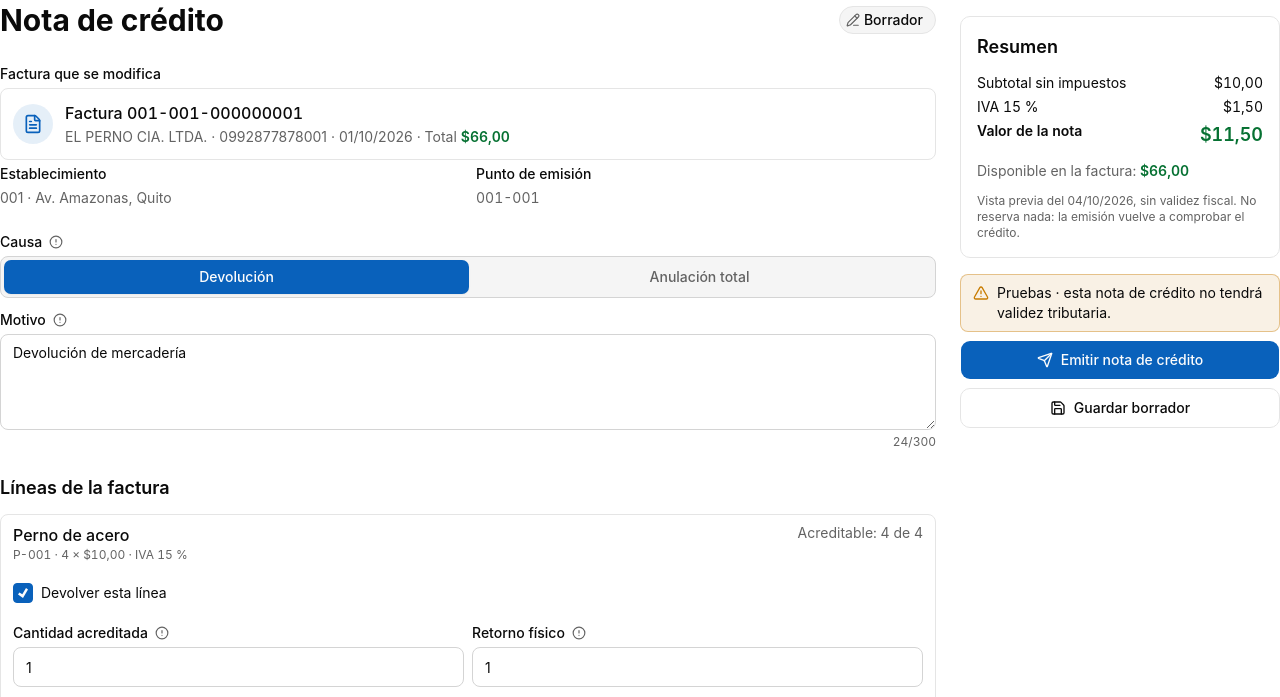
Scenario: borrador de nota de crédito › un borrador cambiado por otra persona se explica y se recarga
What coordinates should you click on to do the following:
click the button "Emitir nota de crédito"
I would click on:
 (1120, 360)
Its box is [960,340,1279,380].
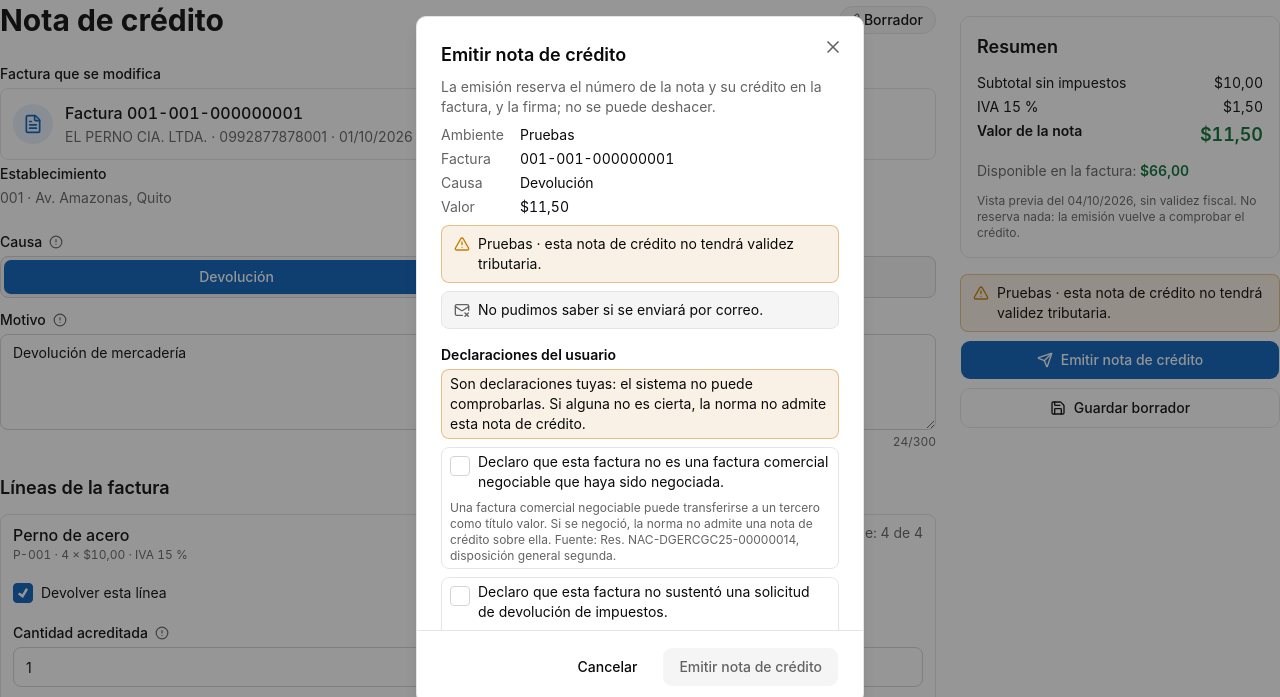
What coordinates should you click on to do the following:
click the checkbox named "Declaro que esta factura no es una factura comercial negociable que haya sido negociada."
I would click on:
 (460, 466)
Its box is [450,456,470,476].
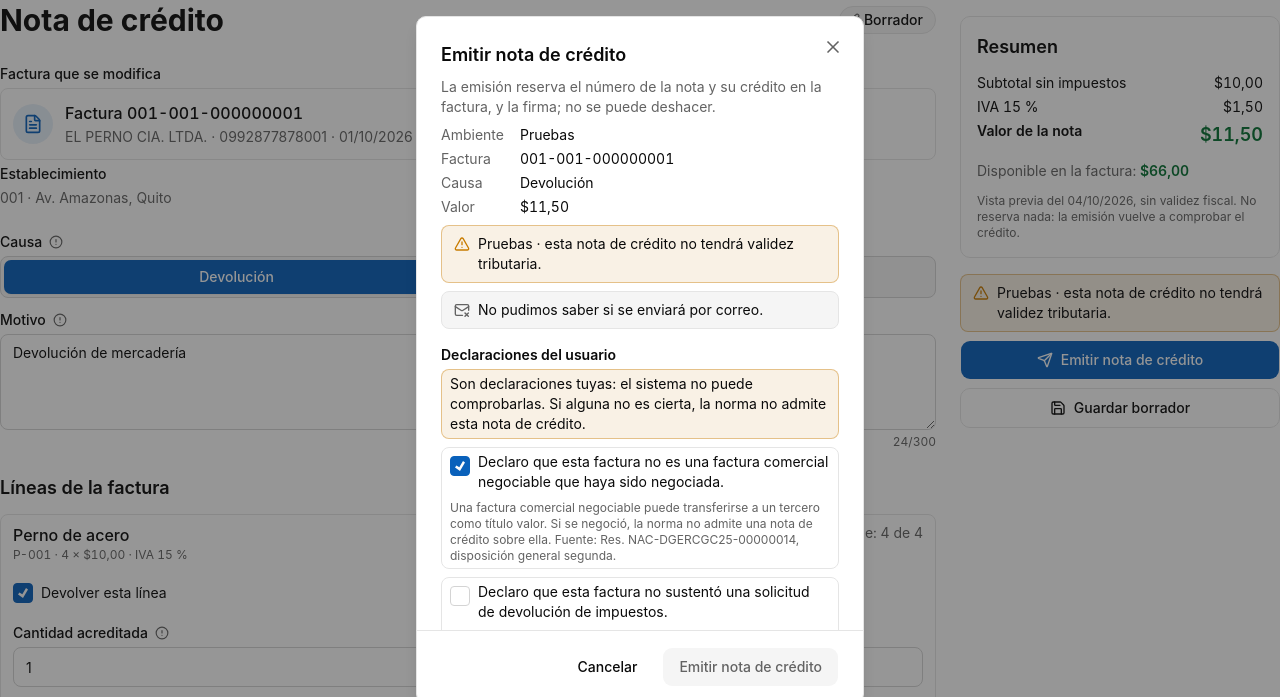
What coordinates should you click on to do the following:
click the checkbox labelled "Declaro que esta factura no sustentó una solicitud de devolución de impuestos."
I would click on:
 (460, 596)
Its box is [450,586,470,606].
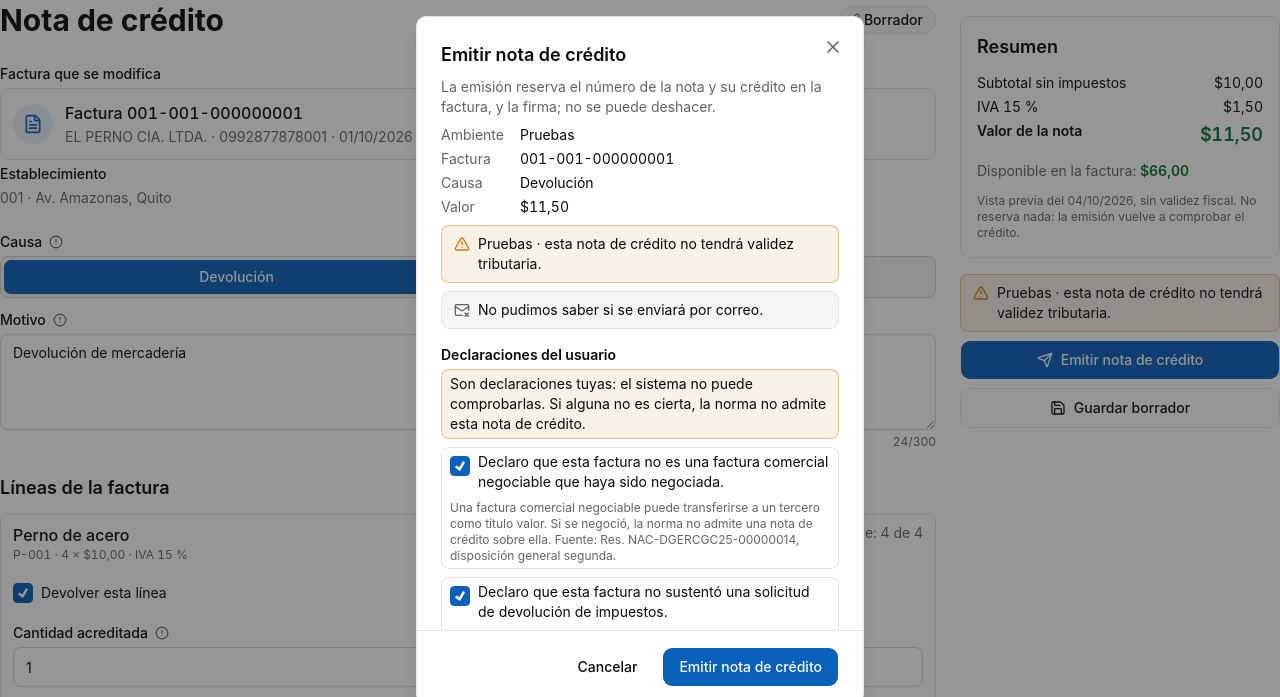
What coordinates should you click on to do the following:
click the button "Emitir nota de crédito"
I would click on:
 (751, 667)
Its box is [662,647,839,687].
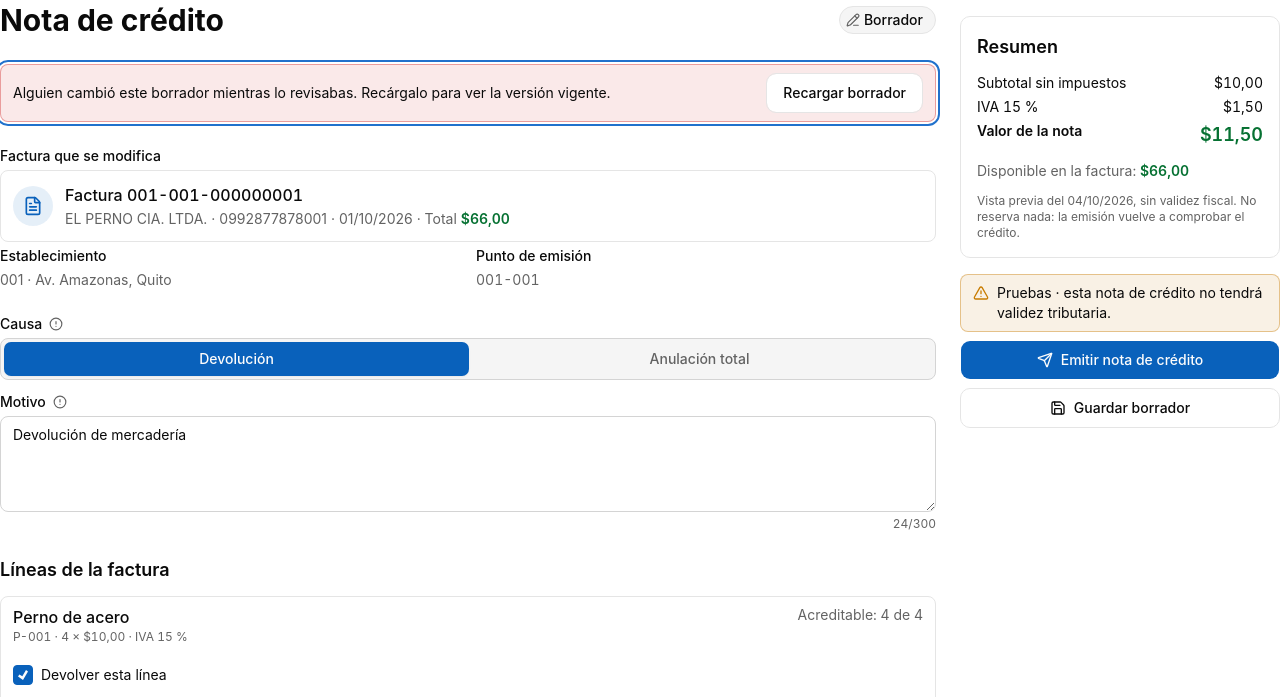
Check: the text "Alguien cambió este borrador mientras lo revisabas. Recárgalo para ver la versión vigente." is shown, box [13,84,611,101]
What coordinates should you click on to do the following:
click the button "Recargar borrador"
I would click on:
 (845, 93)
Its box is [766,73,923,113].
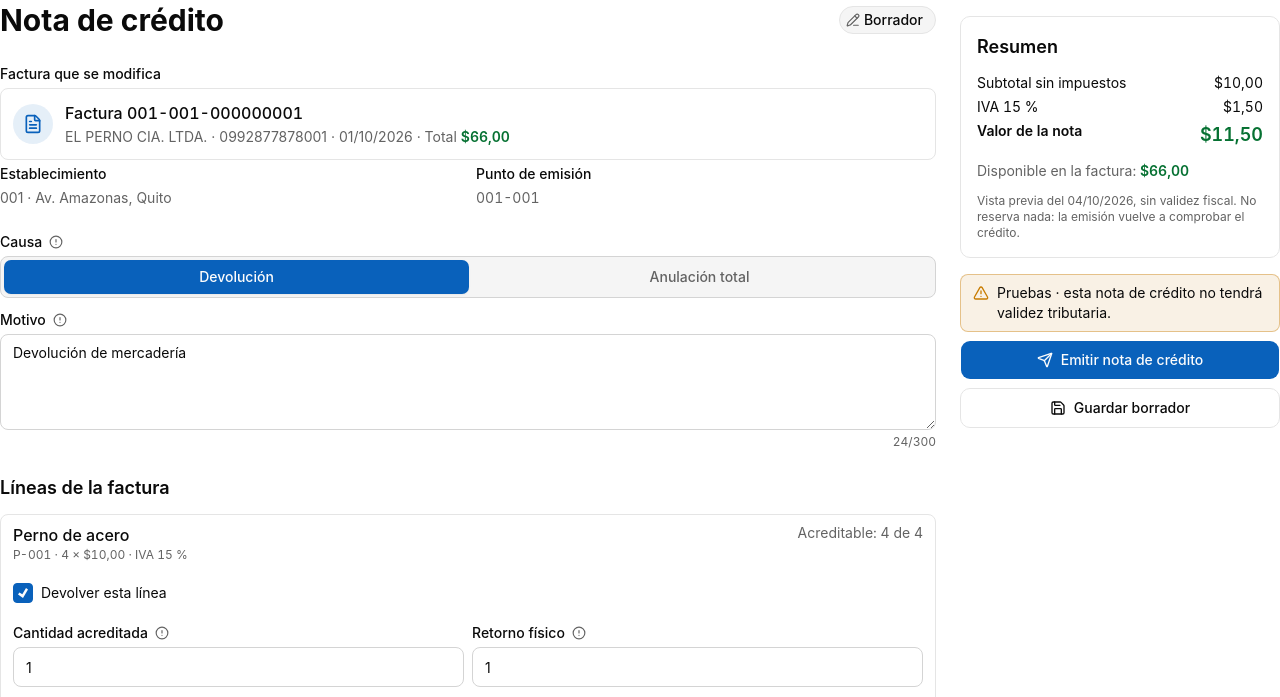
Check: the message is gone
